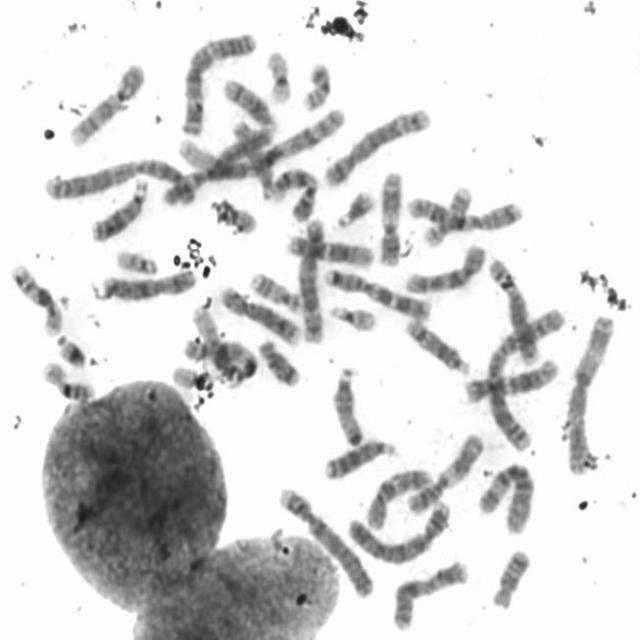A1: (168, 100, 352, 184), (178, 299, 257, 388)
A2: (480, 302, 568, 454), (38, 152, 200, 208)
A3: (176, 27, 259, 136), (562, 310, 616, 477)
B4: (274, 484, 376, 601), (343, 495, 454, 567)
B5: (320, 100, 434, 189), (296, 213, 328, 345)
C10: (400, 237, 490, 296), (360, 461, 433, 531)
C11: (401, 427, 486, 516), (375, 165, 405, 266)
C12: (460, 354, 562, 405), (280, 230, 376, 270)
C6: (156, 118, 278, 209), (474, 458, 537, 536)
C7: (318, 262, 433, 322), (402, 190, 524, 234)
C8: (482, 250, 542, 366), (215, 280, 300, 346)
C9: (65, 57, 147, 147), (266, 163, 320, 223)
D13: (86, 172, 151, 244), (319, 436, 399, 482)
D14: (401, 314, 473, 377), (218, 72, 280, 134)
D15: (226, 117, 276, 200), (326, 359, 366, 448)
E16: (5, 259, 64, 337), (38, 357, 97, 402)
E17: (418, 180, 474, 249), (245, 264, 307, 314)
E18: (487, 540, 535, 612), (254, 332, 305, 389)
F19: (261, 44, 294, 106), (174, 366, 216, 393)
F20: (210, 193, 258, 235), (298, 58, 333, 112)
G21: (332, 184, 376, 230), (52, 329, 90, 370)
G22: (326, 298, 380, 333), (110, 244, 161, 276)
X: (387, 556, 473, 634), (96, 266, 199, 302)
